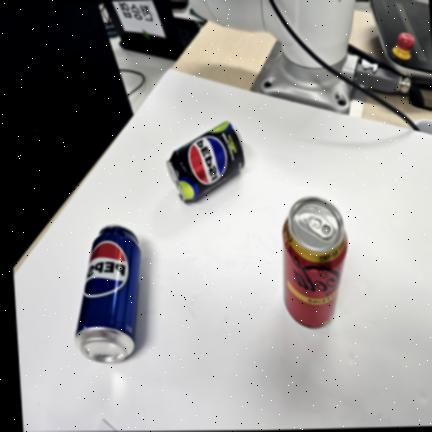can_coke_decaf: (283, 195, 348, 328)
can_pepsi: (74, 223, 141, 361)
can_pepsi_zero: (165, 119, 245, 205)
